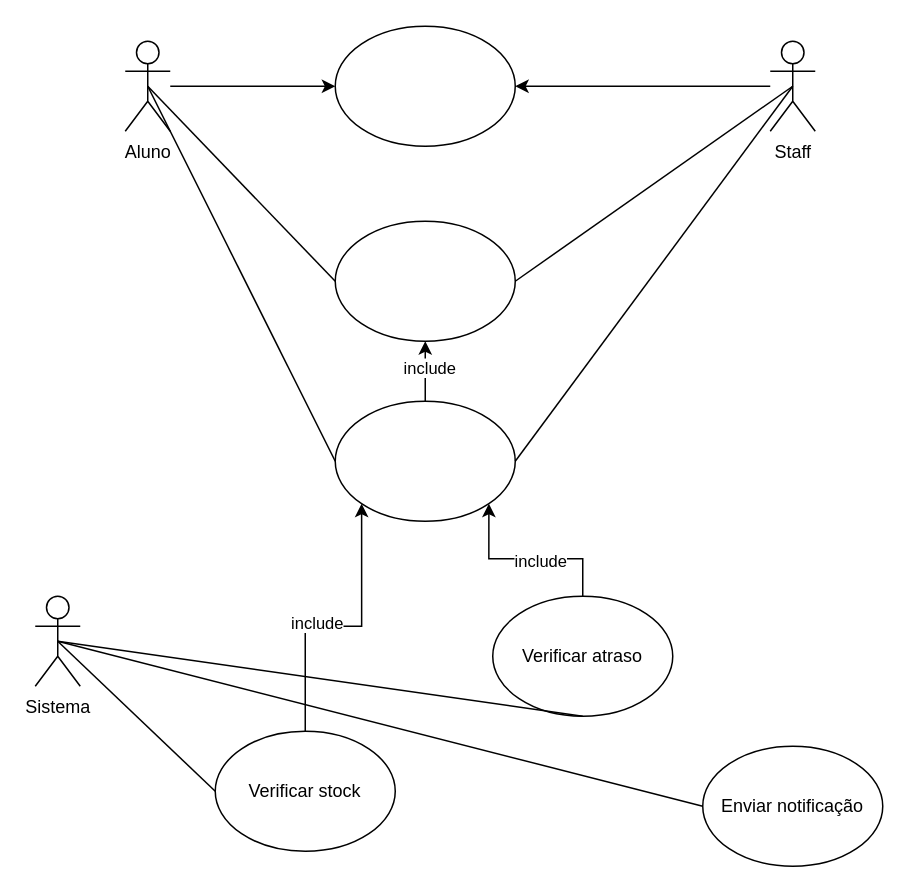
Image size: 909x893. Some labels were removed from this diagram. Each missing label, with the centre of its shape:
Autenticar: pixel 424 280
Pesquisar Livro: pixel 424 85
Requisitar livro: pixel 424 460
